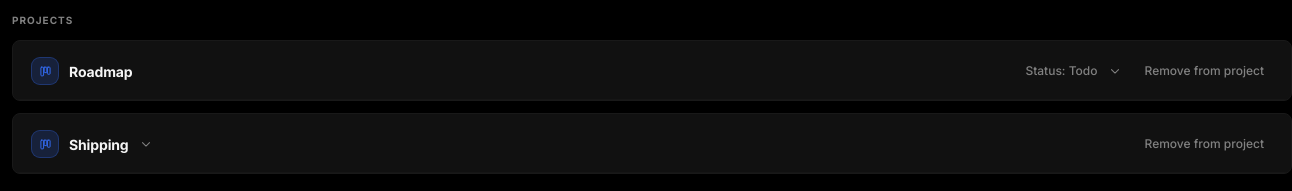
Test: ItemProjects › removes the item from one project and keeps the others
The width and height of the screenshot is (1292, 191).
Expected: the text "Shipping" is shown, [69, 134, 129, 154]
Click the 1st button "Remove from project" at (1204, 71), box [1134, 55, 1275, 87]
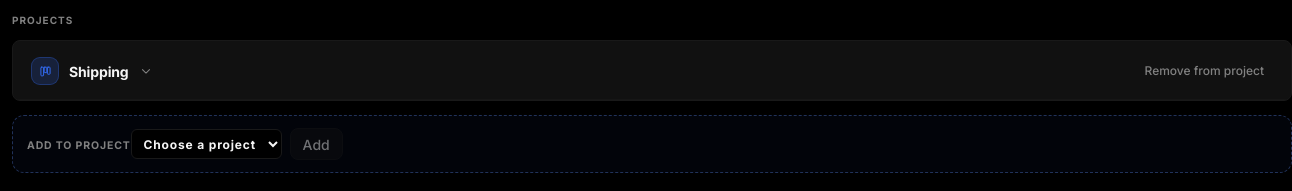
Expected: the text "Shipping" is shown, [69, 60, 129, 82]
Expected: no buttons "Roadmap" are shown
